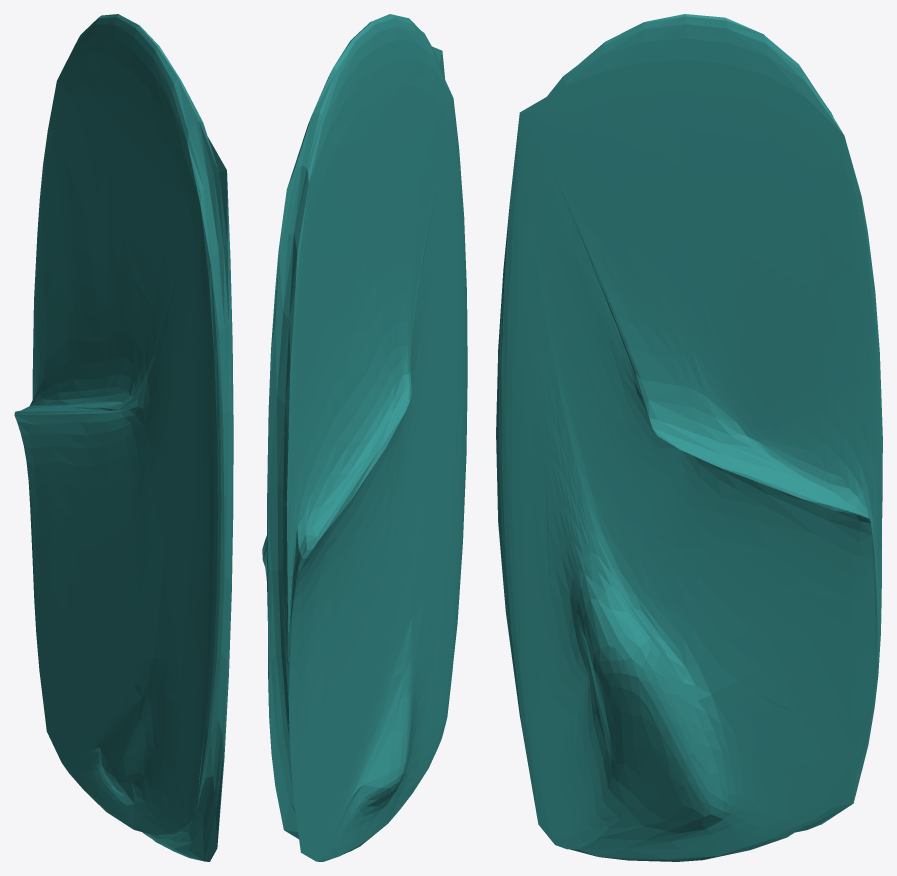
3 views of the same model, side by side, from view 1: azimuth 30°, elevation 25°; view 2: azimuth 150°, elevation 25°; view 3: azimuth 270°, elevation 25° (orthographic). The views are drawn at different scales.
Parts seen in each view (by area): view 1: 373_Cube.1522; view 2: 373_Cube.1522; view 3: 373_Cube.1522.
Boxes of the visible parts, x1,y1,x2,y2 form: 373_Cube.1522: (14, 14, 233, 861); 373_Cube.1522: (262, 14, 467, 861); 373_Cube.1522: (496, 14, 882, 861).
Size of the model in its own units: 1.39 by 11.36 by 4.72.
